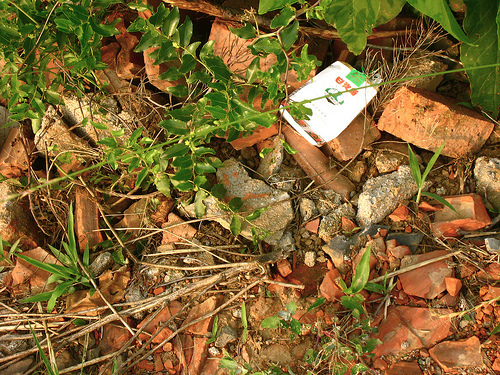litter: (279, 62, 377, 143)
